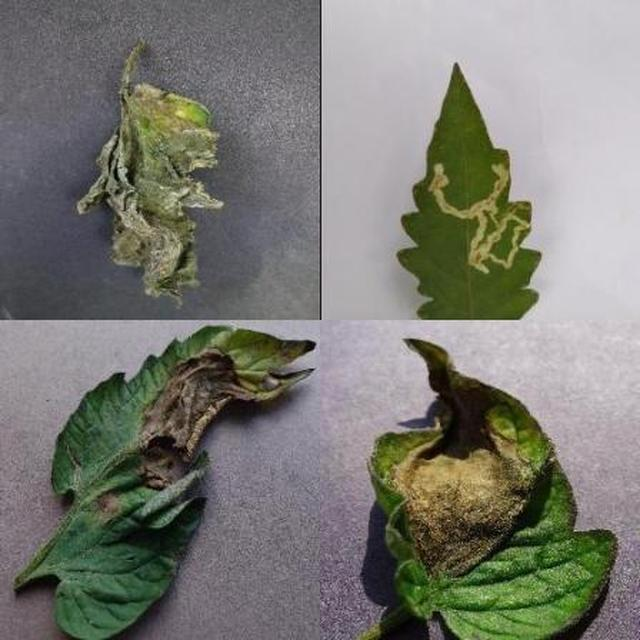Late Blight Leaf: (204, 270, 640, 640)
